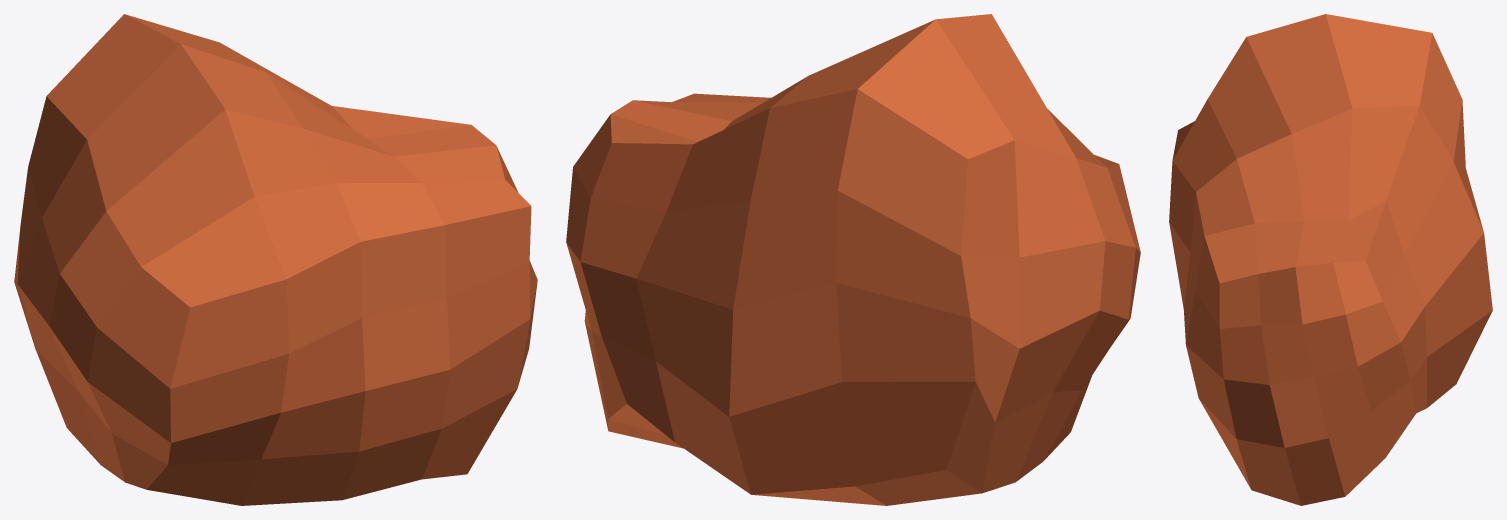
The model's file is stone10.fbx.
3 views of the same model, side by side, from view 1: azimuth 30°, elevation 25°; view 2: azimuth 150°, elevation 25°; view 3: azimuth 270°, elevation 25° (orthographic). The views are drawn at different scales.
Parts seen in each view (by area): view 1: stoneD; view 2: stoneD; view 3: stoneD.
Boxes of the visible parts, x1,y1,x2,y2 form: stoneD: (14,14,537,505); stoneD: (566,14,1140,505); stoneD: (1169,14,1492,505).
Bounding box in the file's own units: 112 × 105 × 81.78.
